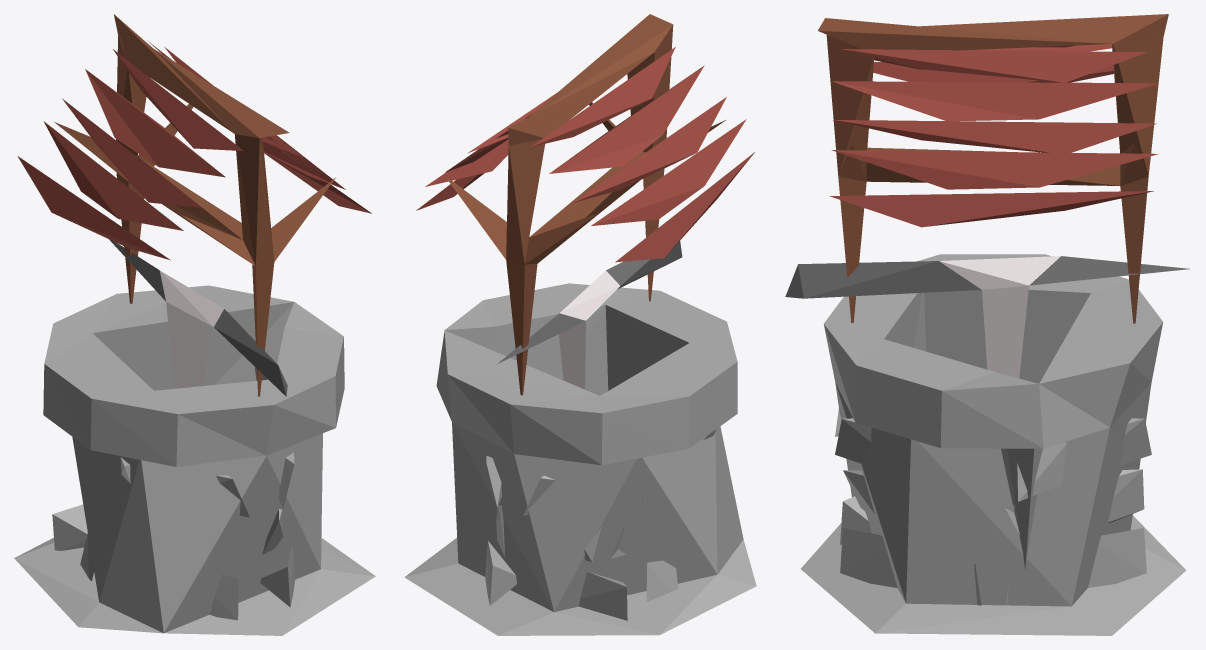
Rendered from Well.lod3.glb.
3 views of the same model, side by side, from view 1: azimuth 30°, elevation 25°; view 2: azimuth 150°, elevation 25°; view 3: azimuth 270°, elevation 25° (orthographic). The views are drawn at different scales.
Parts seen in each view (by area): view 1: Well; view 2: Well; view 3: Well.
Part boxes in pixels (bbox=[...]): Well: bbox=[14, 14, 375, 635]; Well: bbox=[404, 14, 756, 635]; Well: bbox=[785, 14, 1189, 635].
Bounding box in the file's own units: 1.2 × 2.13 × 1.41.
